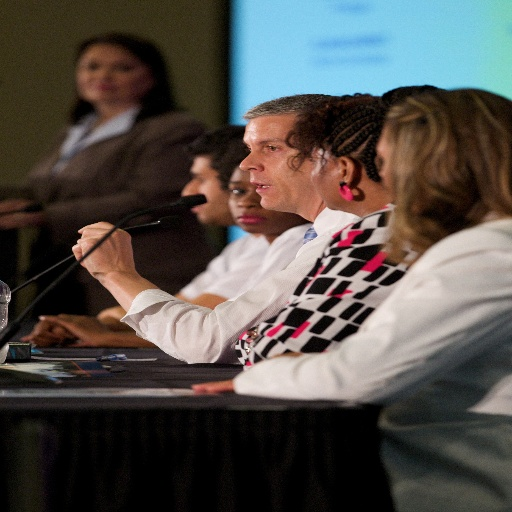hand: (62, 222, 156, 310), (35, 312, 113, 346), (23, 322, 75, 346), (0, 198, 43, 226), (194, 380, 233, 394)
